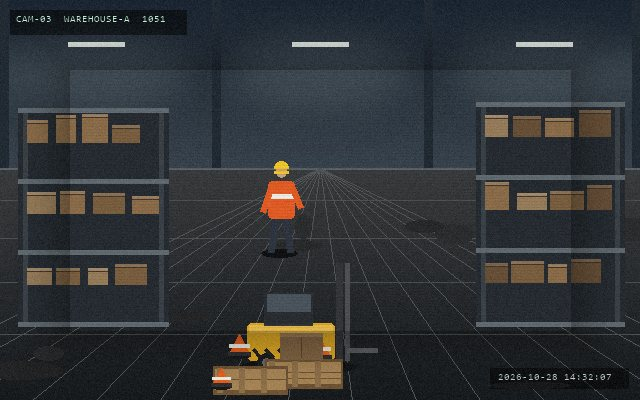cone: (227, 332, 251, 358), (308, 336, 332, 361), (210, 366, 232, 389)
forklift: (243, 261, 379, 374)
pallet: (263, 357, 344, 390), (211, 364, 289, 396)
person: (260, 159, 302, 256)
shelf: (476, 102, 624, 322), (18, 108, 168, 322)
